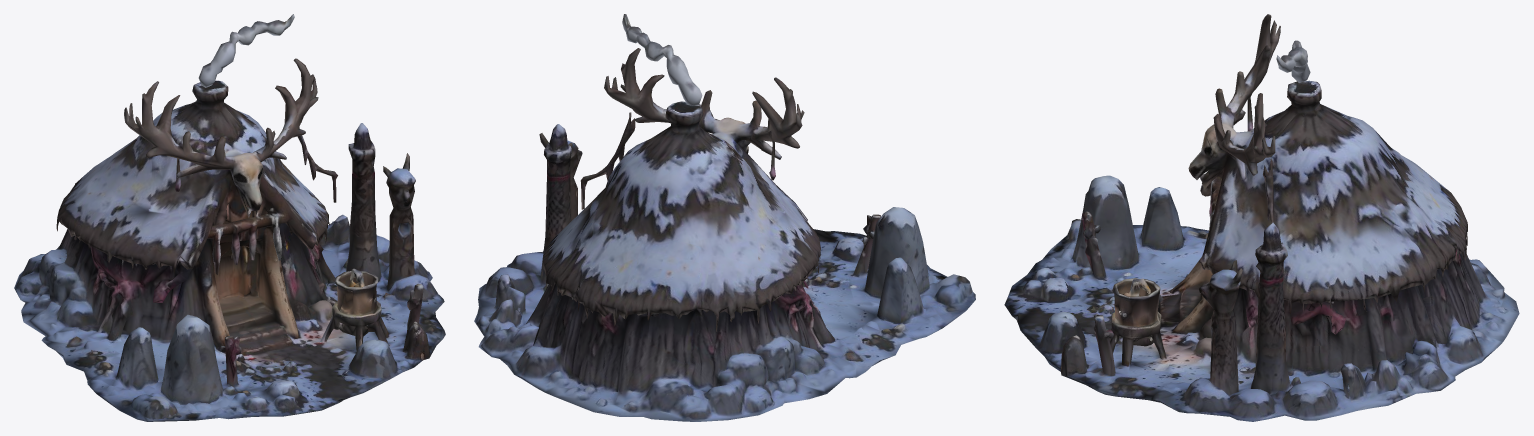
3 renders of one model, left to right at view 1: azimuth 30°, elevation 25°; view 2: azimuth 150°, elevation 25°; view 3: azimuth 270°, elevation 25°, orthographic. The views are drawn at different scales.
Parts seen in each view (by area): view 1: tripo_node_10a4d899-4734-40de-8826-4dc17a406cfe; view 2: tripo_node_10a4d899-4734-40de-8826-4dc17a406cfe; view 3: tripo_node_10a4d899-4734-40de-8826-4dc17a406cfe.
Boxes of the visible parts, <box> form: tripo_node_10a4d899-4734-40de-8826-4dc17a406cfe: <box>14,14,445,421</box>; tripo_node_10a4d899-4734-40de-8826-4dc17a406cfe: <box>474,14,975,421</box>; tripo_node_10a4d899-4734-40de-8826-4dc17a406cfe: <box>1004,14,1519,421</box>.
Bounding box in the file's own units: 3.26 × 2.37 × 3.6.
Materials: 1 (1 with a texture image).
